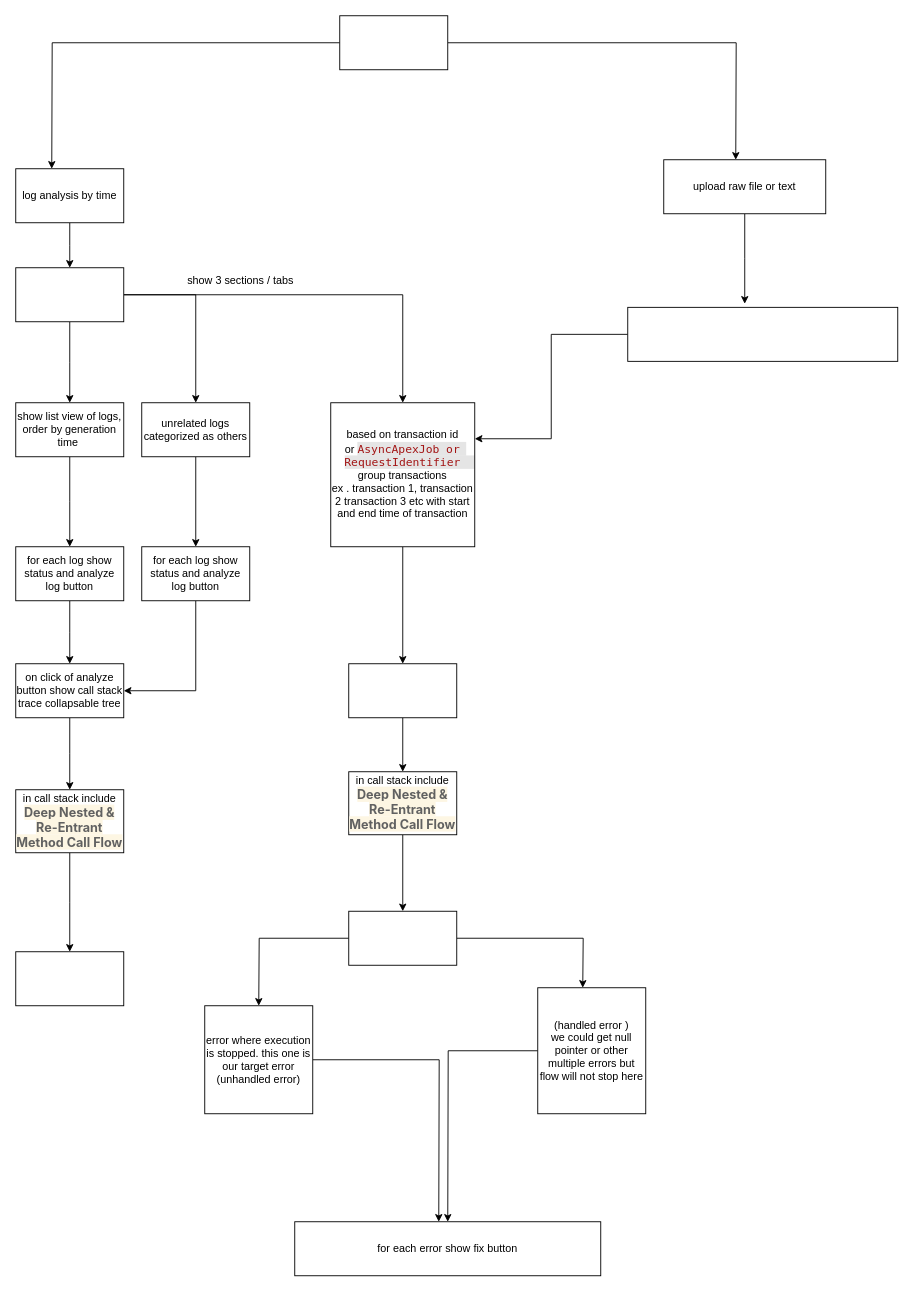
Some shapes in this 914 by 1292 pixel diagram are drawn without their labels. The shapes that lost their labels are listed below. From the top down, each one's centre as x and y in pixels, then its label:
the point at 393,42: code analyzer
the point at 69,294: fetch all log generated by user in selected time period
the point at 762,333: on click of analyse button
the point at 402,690: on click of transaction open call stack tree of that transaction
the point at 402,937: highlight the method where code execution is getting stopped
the point at 69,978: show jump to error button to pinpoint the error
